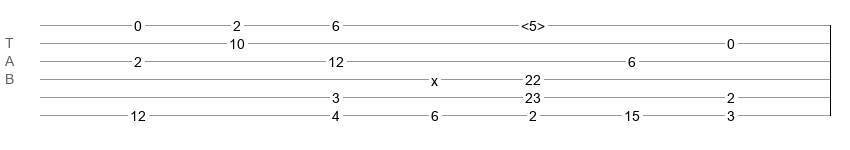0: (134, 18, 142, 28), (727, 36, 735, 46)
10: (229, 36, 245, 46)
12: (130, 108, 146, 118), (328, 54, 344, 64)
15: (624, 108, 640, 118)
2: (134, 54, 142, 64), (233, 18, 241, 28), (529, 108, 537, 118), (727, 90, 735, 100)
22: (525, 72, 541, 82)
23: (525, 90, 541, 100)
3: (332, 90, 340, 100), (727, 108, 735, 118)
4: (332, 108, 340, 118)
6: (332, 18, 340, 28), (431, 108, 439, 118), (628, 54, 636, 64)
harmonic: (521, 18, 545, 28)
x: (431, 73, 438, 81)
